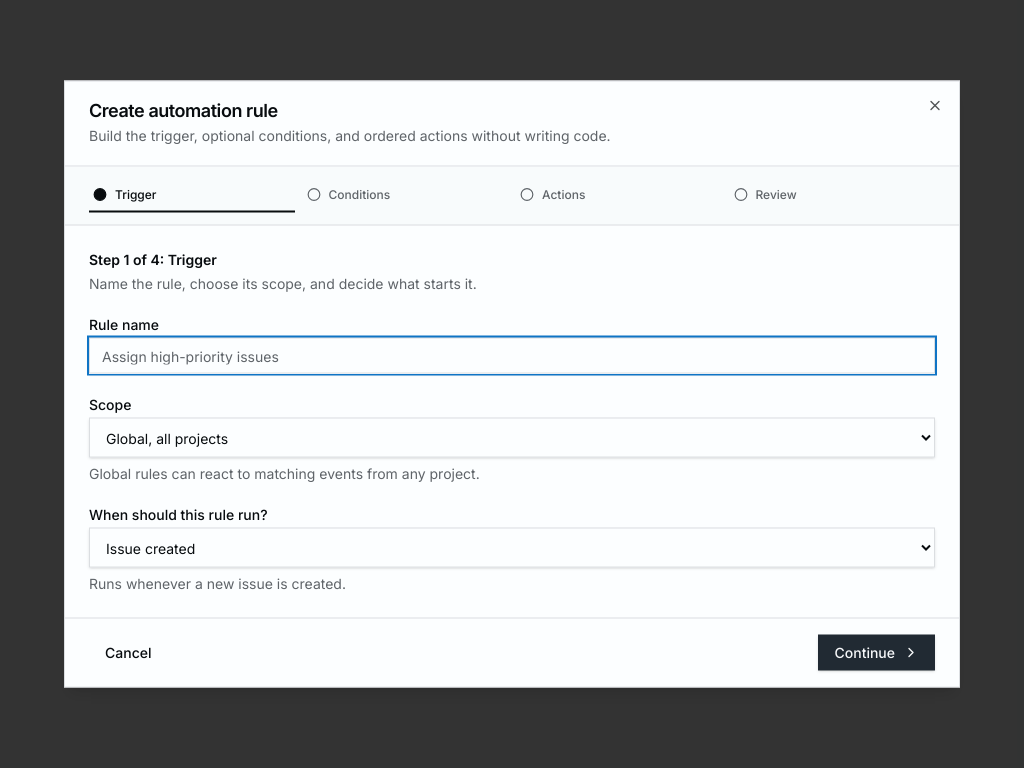
RuleBuilder › keeps users on an incomplete action step with a useful error
The image size is (1024, 768).
In the field labelled "Rule name": (512, 356) [89,338,935,374], type "Incomplete rule"
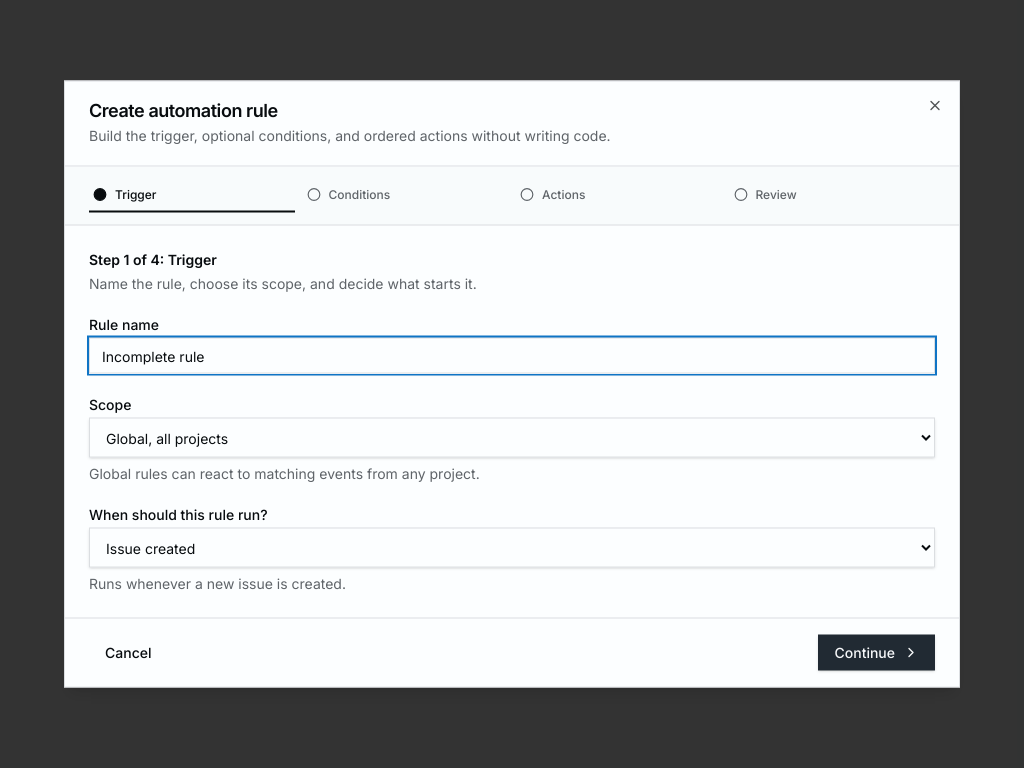
Click the button "Continue": (877, 652) [818,634,935,670]
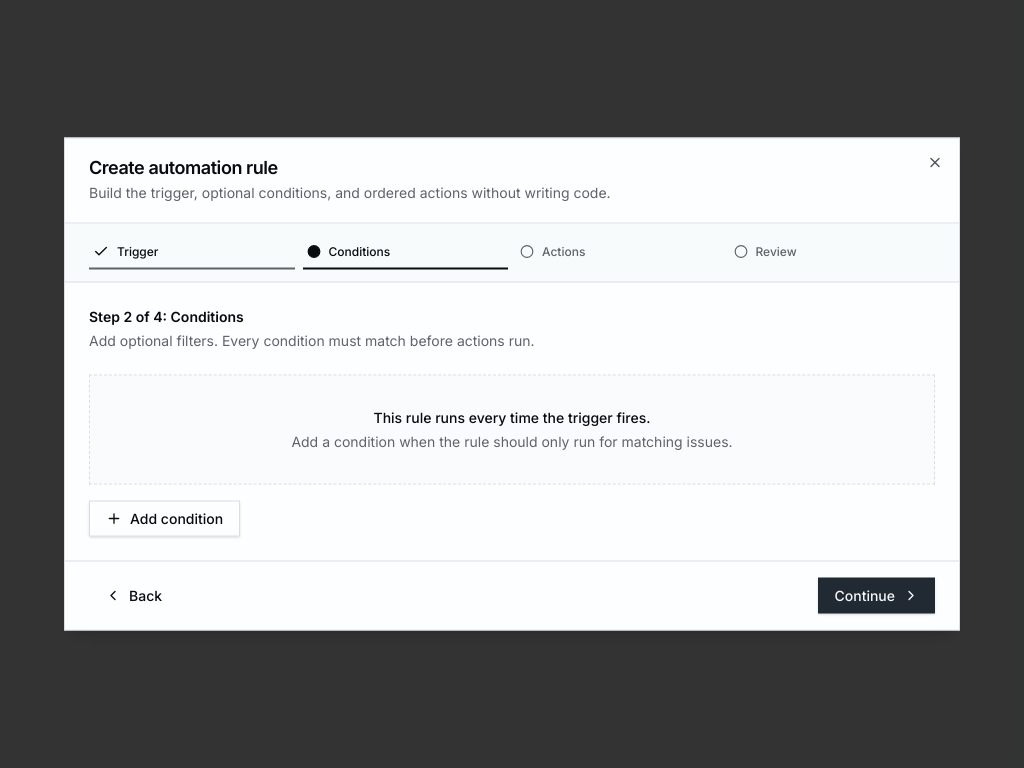
Click the button "Continue": (877, 596) [818,578,935,614]
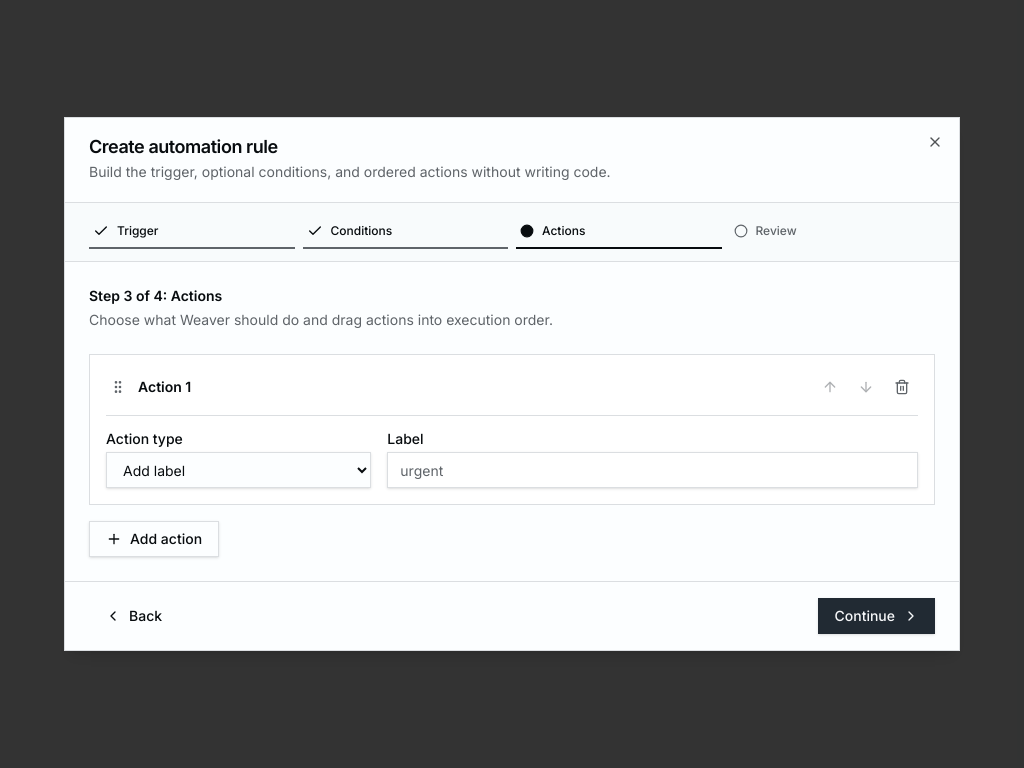
Click the button "Continue": (877, 616) [818,598,935,634]
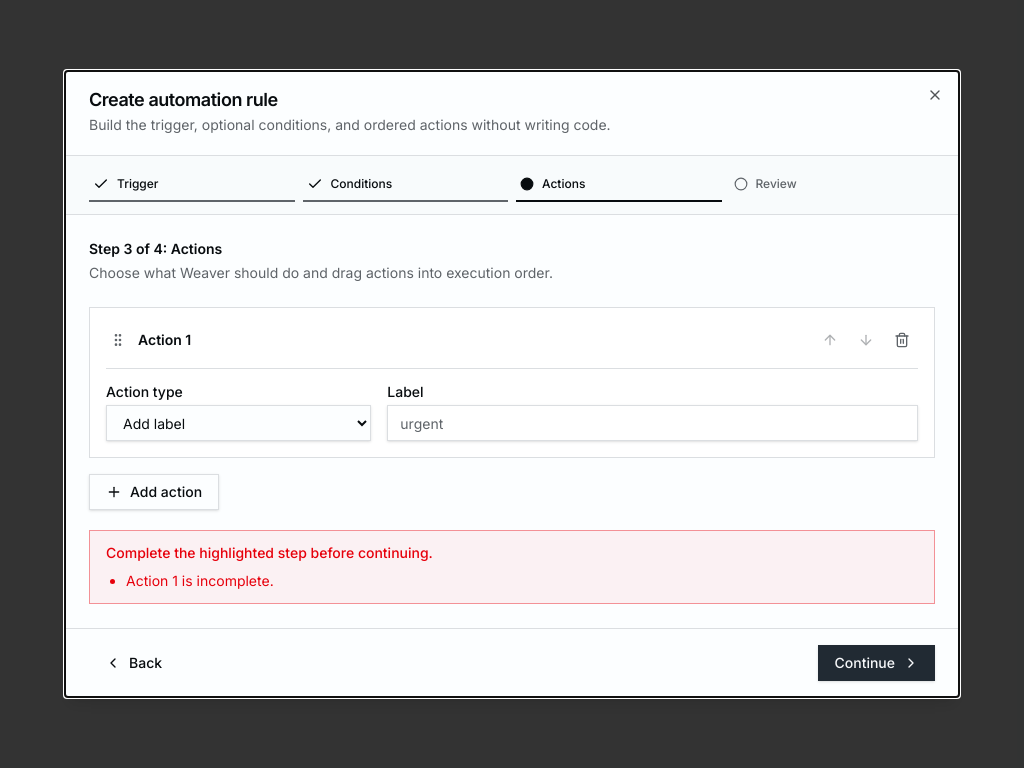
Now the text "Step 3 of 4: Actions" is shown, box [89,240,222,257]
Now the message shows "Action 1 is incomplete.", box [126,572,274,589]
